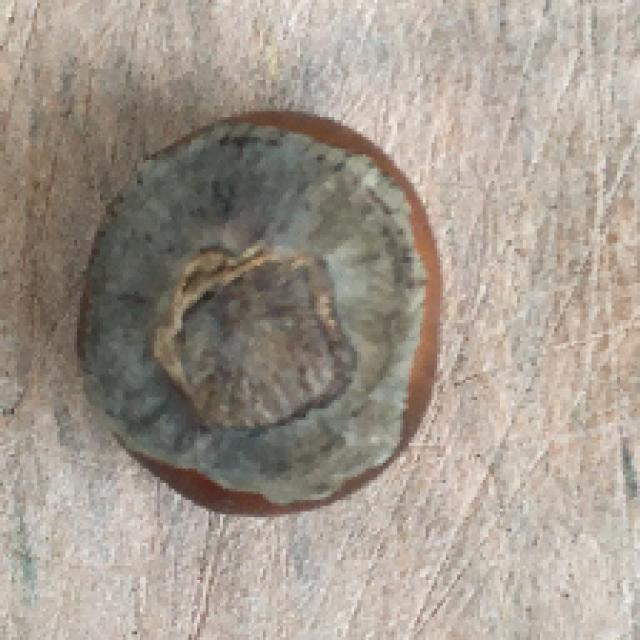damagedHazelnut: (74, 107, 442, 525)
